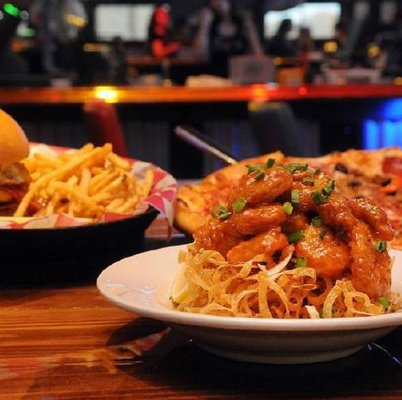curry: (1, 140, 402, 391)
sandwich: (170, 146, 402, 321)
